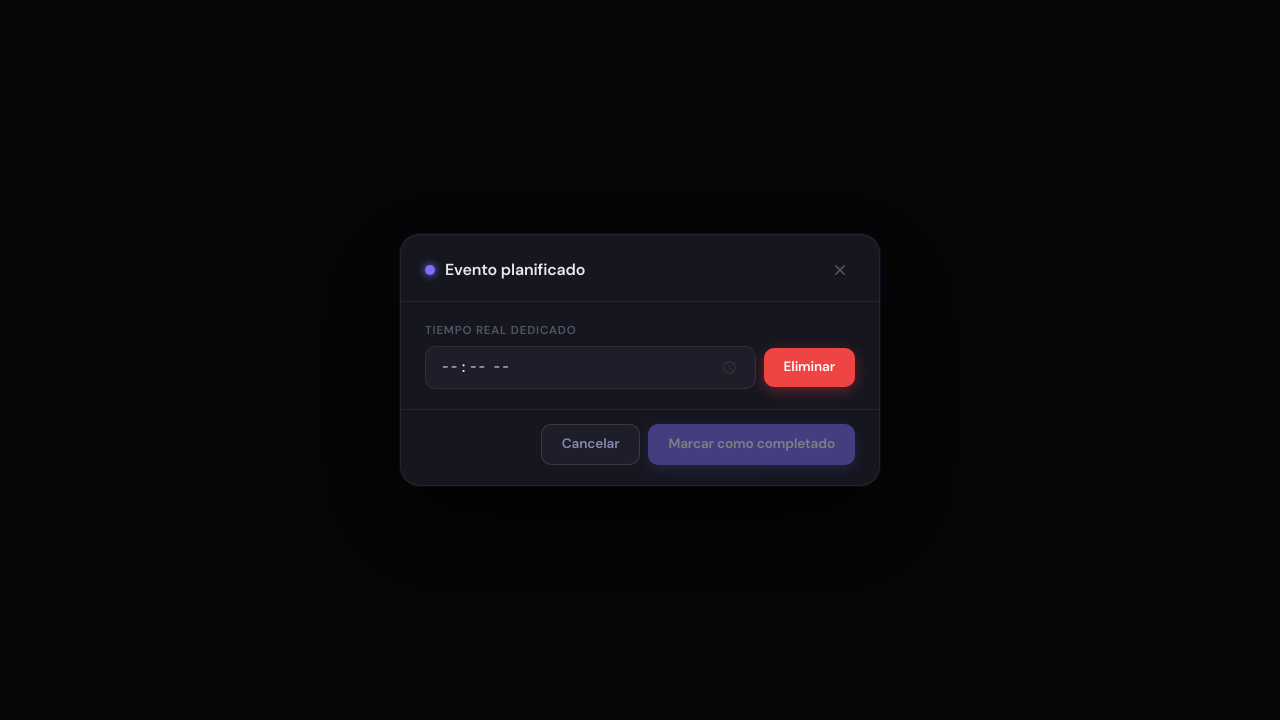
Test: EditPlanEventDialog - estado pending › el botón se habilita al introducir un tiempo
The image size is (1280, 720).
Type "01:30" into the time field named "Tiempo real dedicado".
click(590, 367); type("01:30")  # box x1=425 y1=346 x2=756 y2=389
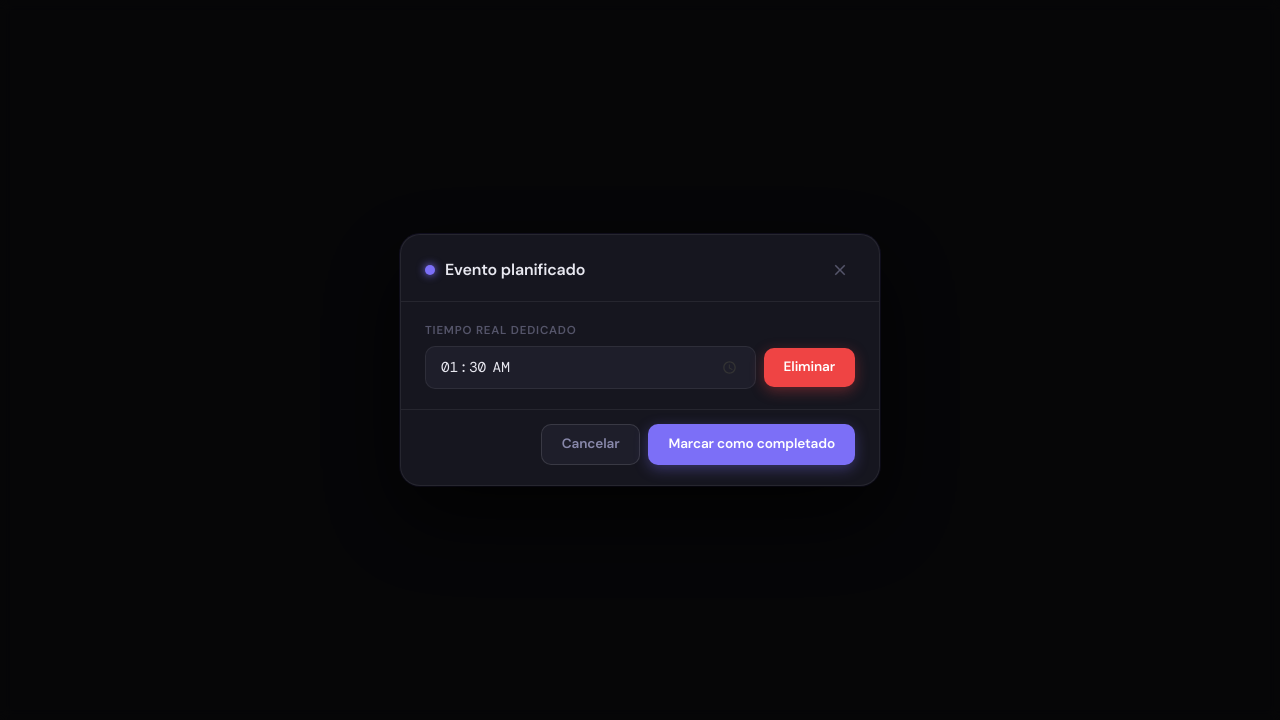
Now the button "Marcar como completado" is enabled, box x1=648 y1=424 x2=855 y2=465
